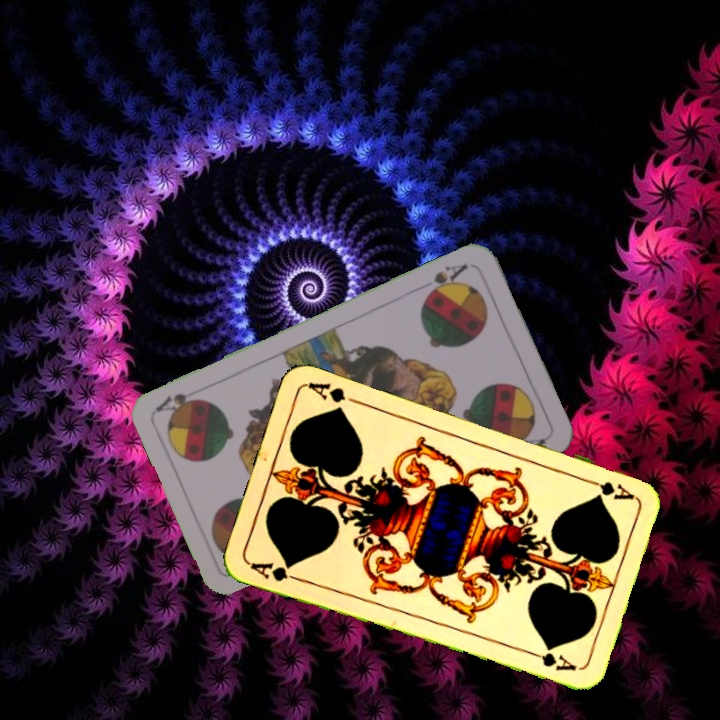GA: (579, 474, 637, 503), (246, 558, 304, 585)
SA: (422, 259, 471, 300)
